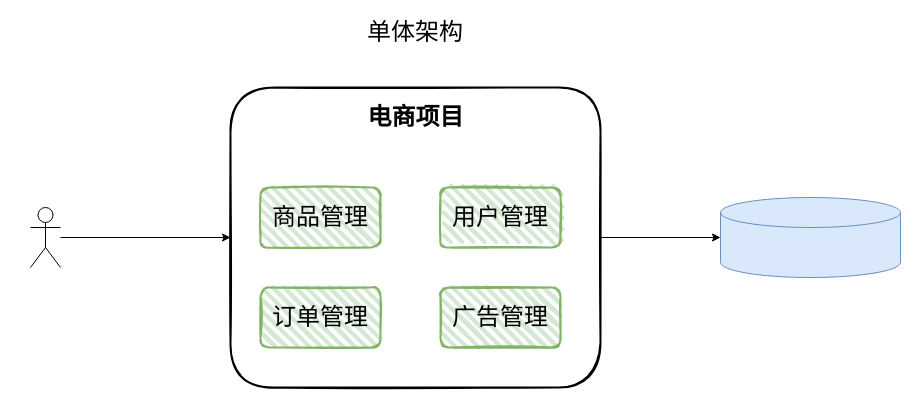
The diagram is 918 pixels wide and 405 high, and some of its shapes have lost their labels. The shapes that lost their labels are listed below. From the top down, each one's box as (x1, y1, x2, y2) in pixels, then its label:
(30, 206, 60, 268): Actor
(720, 196, 900, 278): Database
